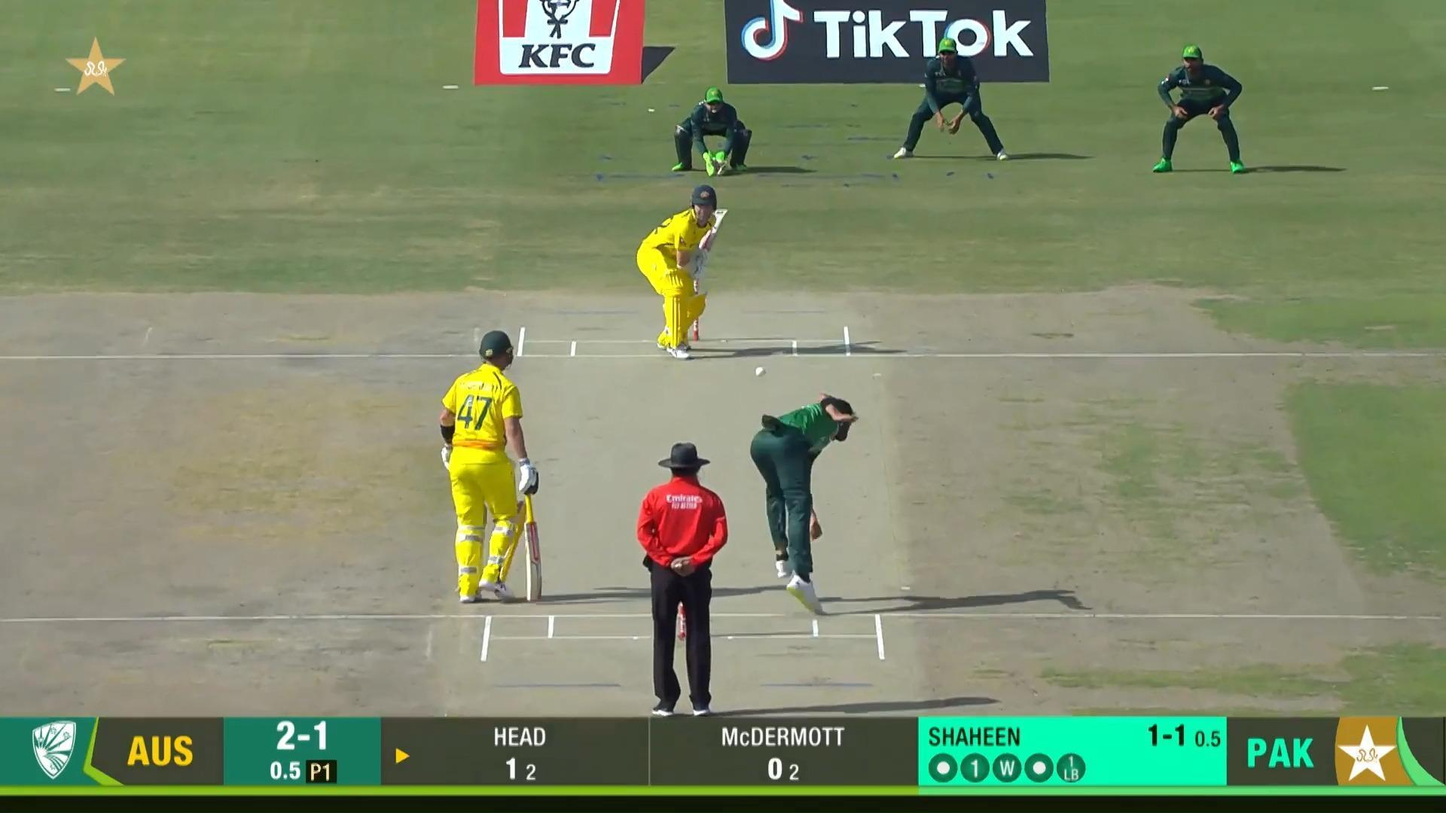BM 1: (637, 184, 729, 361)
BO: (750, 390, 860, 618)
